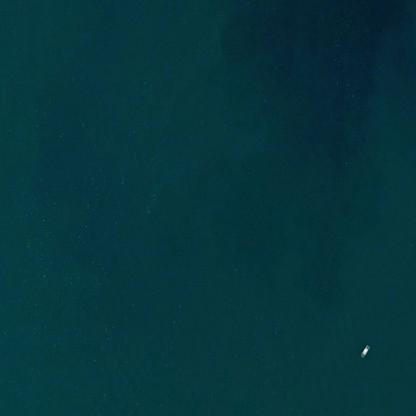ship: (352, 339, 374, 361)
